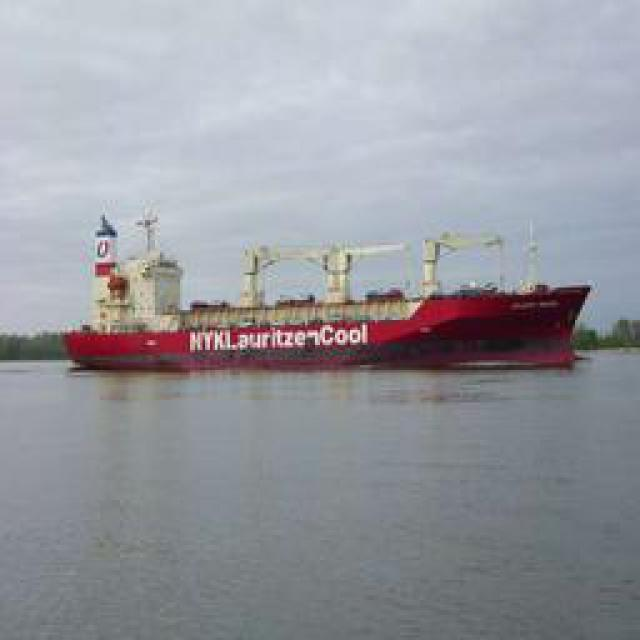Ship: (59, 239, 602, 372)
